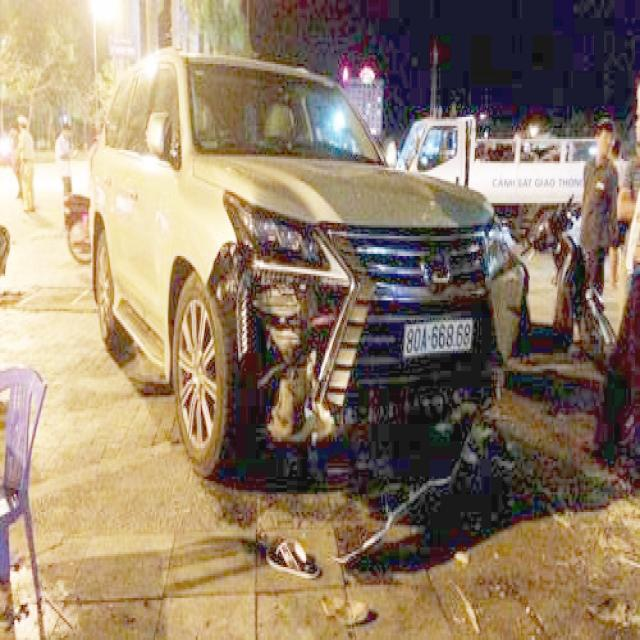license_plate: (405, 323, 473, 355)
